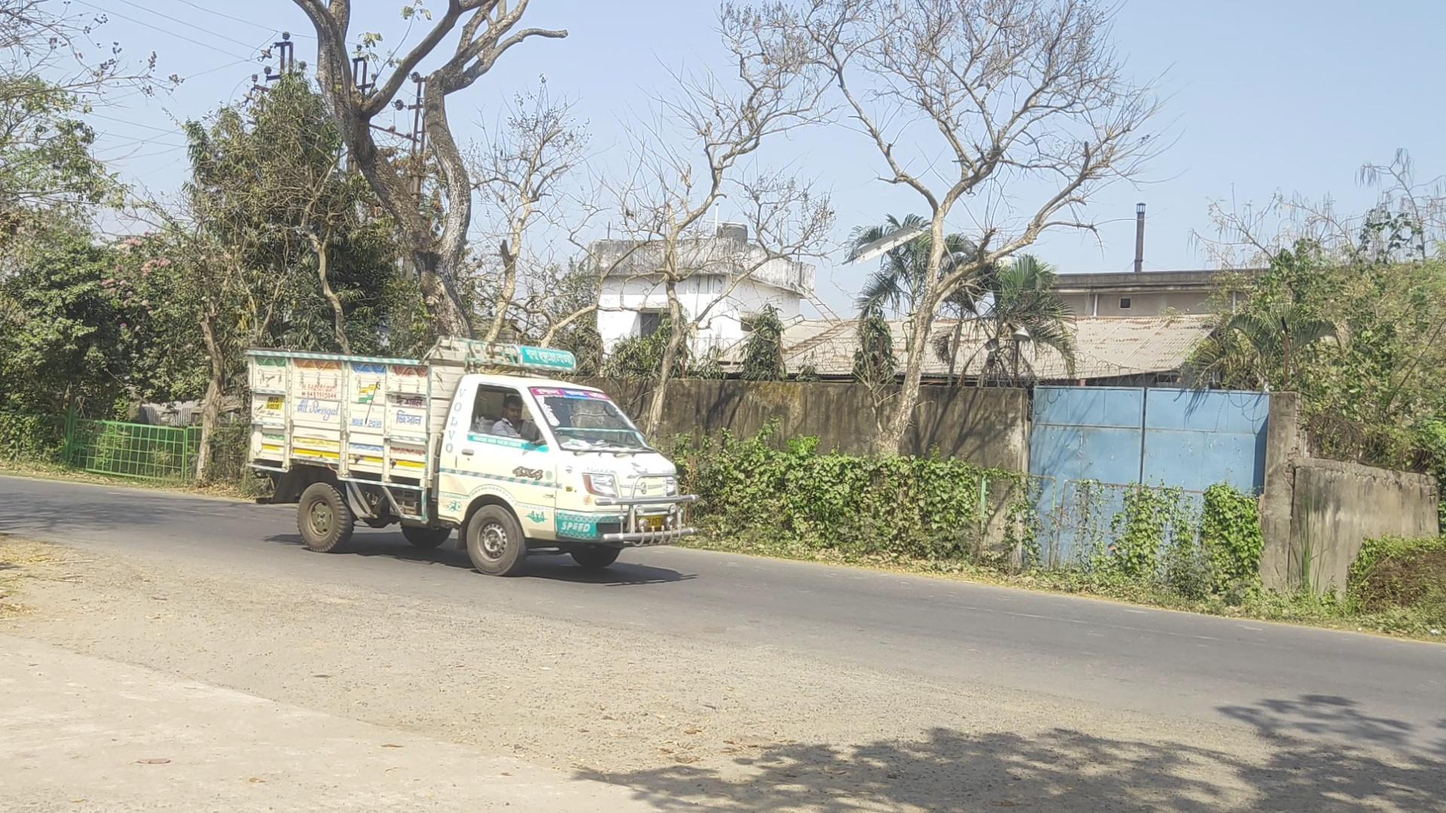van: (246, 335, 699, 577)
